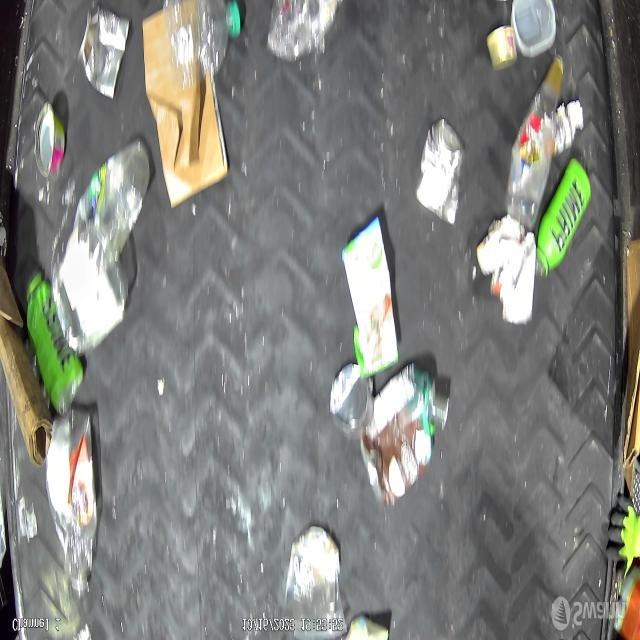can: (415, 115, 469, 234), (76, 2, 132, 106), (329, 352, 376, 460), (30, 95, 69, 186)
non_white_jug: (362, 354, 456, 518)
plastic_bottle: (164, 0, 244, 94), (268, 0, 343, 61)
